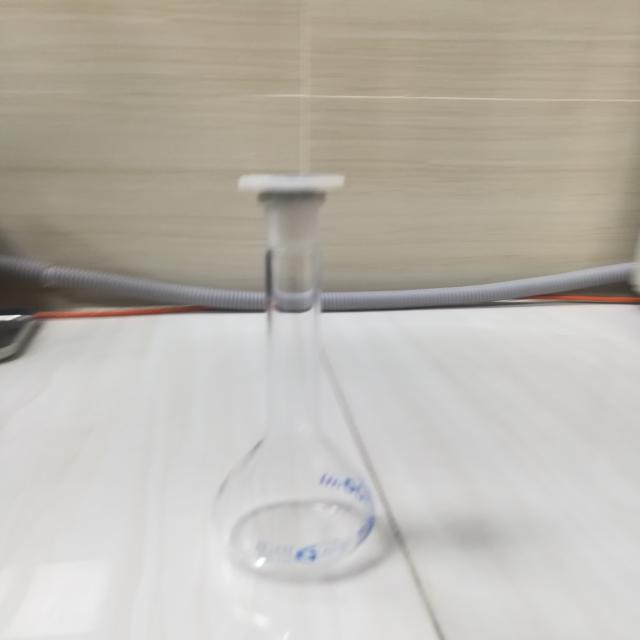Volumetric_Flask: (196, 149, 420, 599)
